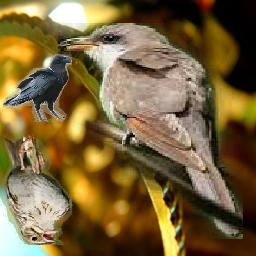Crow: (4, 54, 73, 122)
Cuckoo: (59, 23, 244, 239)
Sparrow: (1, 135, 74, 246)
